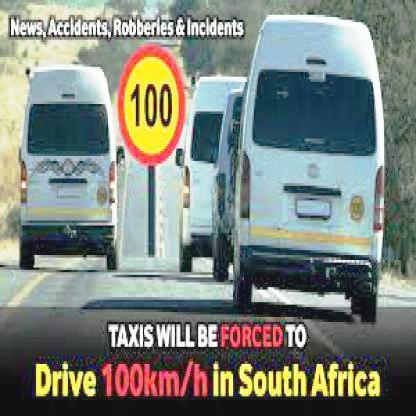Speed Limit -100-: (118, 45, 185, 164)
